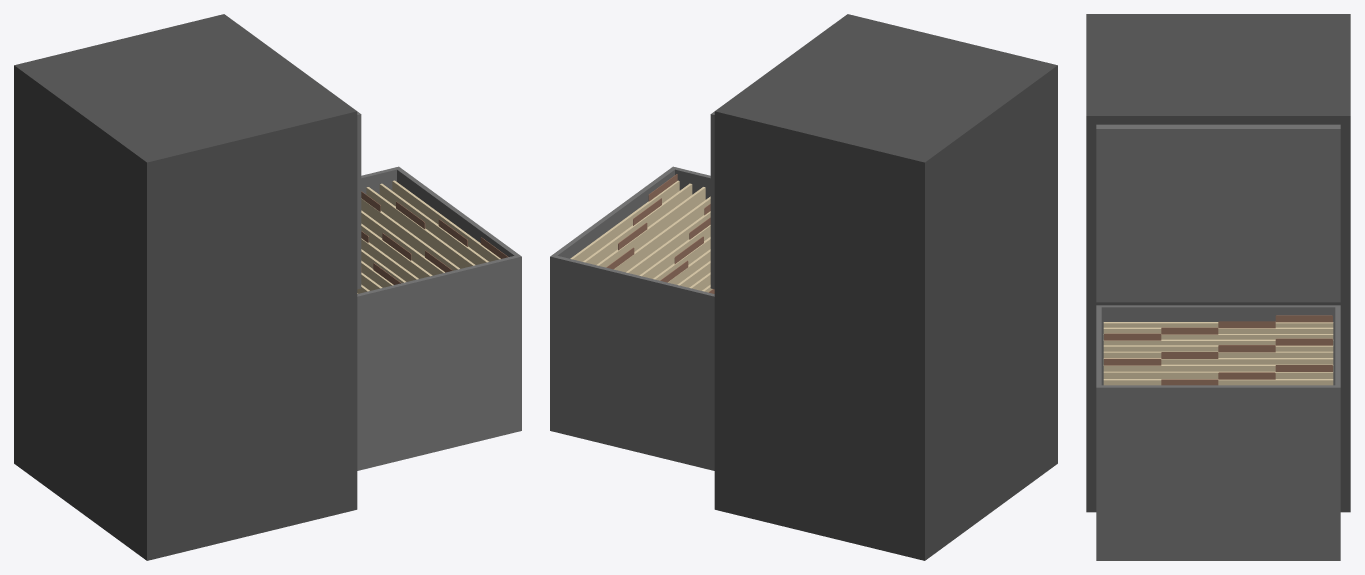
File: FileCabinet.glb
The picture shows the model from 3 angles, left to right: view 1: azimuth 30°, elevation 25°; view 2: azimuth 150°, elevation 25°; view 3: azimuth 270°, elevation 25°; orthographic projection.
Parts seen in each view (by area): view 1: Cabinet, Door2, File_3, File_2, File_1, File_4, File_5, File_6, Door1, File_7; view 2: Cabinet, Door2, File_3, File_4, File_2, File_1, File_5, Door1, File_6, File_7, File_8; view 3: Door2, Door1, Cabinet, File_4, File_5, File_3, File_8, File_7, File_6, File_11, File_9, File_12 (+2 smaller).
Part boxes in pixels (x1,y1,x2,y2): Cabinet: (14,14,357,560); Door2: (357,166,521,470); File_3: (366,187,475,268); File_2: (379,183,488,264); File_1: (392,180,508,261); File_4: (361,191,459,270); File_5: (361,210,452,275); File_6: (361,223,432,278); Door1: (256,37,361,289); File_7: (361,231,418,281); Cabinet: (714,14,1057,560); Door2: (550,166,714,470); File_3: (596,187,705,267); File_4: (606,196,710,272); File_2: (583,183,692,264); File_1: (570,174,679,261); File_5: (626,204,710,275); Door1: (710,37,815,289); File_6: (639,217,710,278); File_7: (653,236,710,280); File_8: (660,249,710,284); Door2: (1096,305,1340,560); Door1: (1096,124,1340,302); Cabinet: (1086,14,1350,512); File_4: (1103,365,1333,378); File_5: (1103,358,1333,371); File_3: (1103,372,1333,385); File_8: (1103,338,1333,351); File_7: (1103,345,1333,357); File_6: (1103,352,1333,364); File_11: (1103,321,1333,333); File_9: (1103,333,1333,345); File_12: (1103,315,1333,327).
Size of what is drawn, in the model's own units: 2.3 by 2.3 by 1.39.
